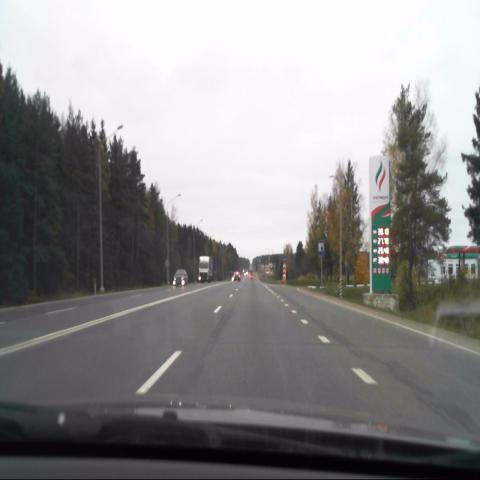7_3: (318, 240, 324, 256)
